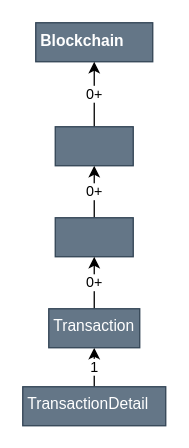
Image size: 189x448. Some labels were removed from this diagram. Each missing label, with the centre of its shape:
"Holding" goes at point (93, 236).
"Wallet" goes at point (93, 145).
